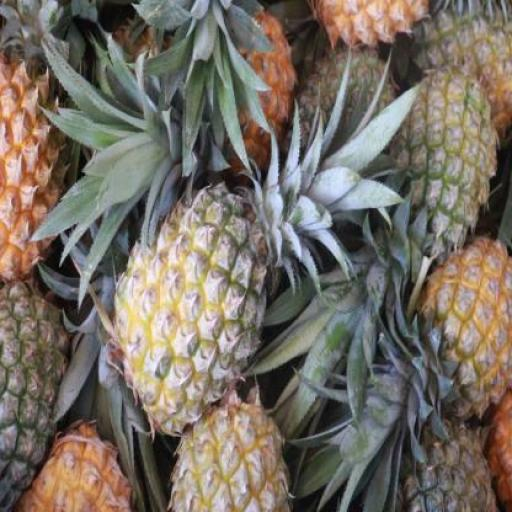------------------------------: (114, 186, 266, 433), (398, 62, 497, 257), (166, 400, 288, 512)
Pineapple - v8 v1: (0, 46, 69, 289), (424, 235, 510, 411)
